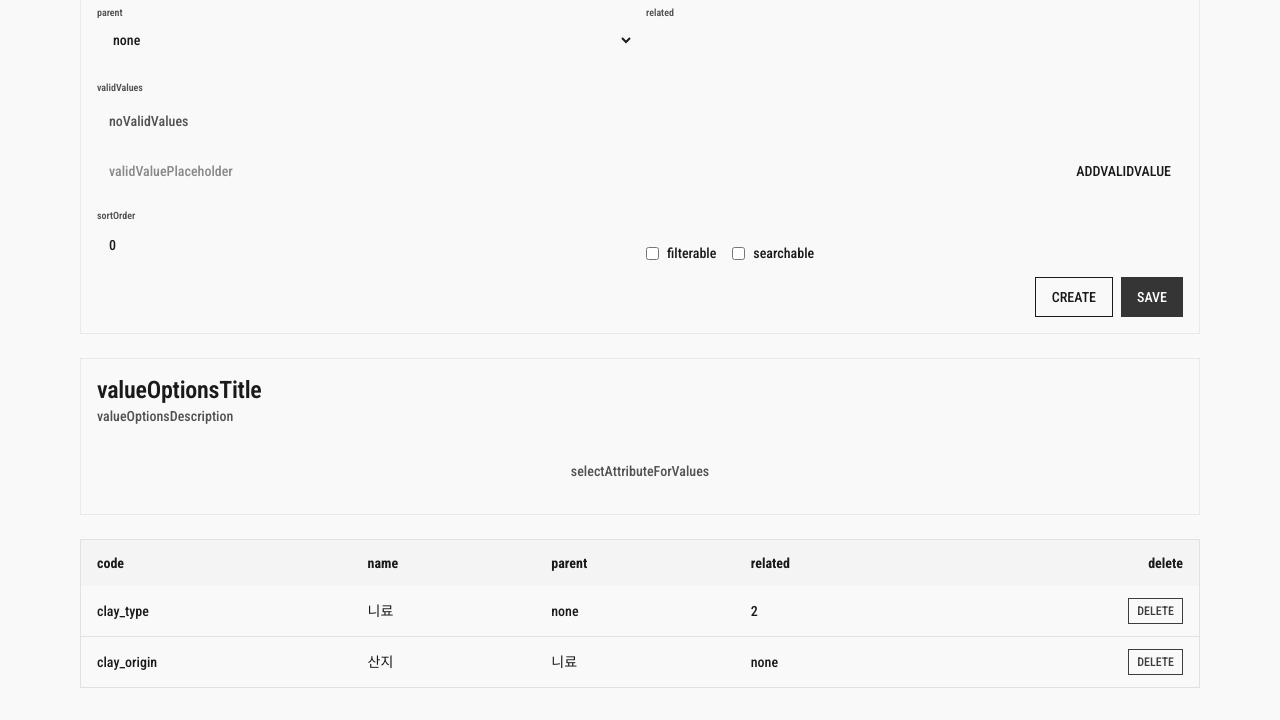
Scenario: AdminAttributesPage › refreshes both source and destination after moving a product to another value
The image size is (1280, 720).
(page scrolled)
Click the text "clay_type" at (123, 611), box [81,586,352,637]
(page scrolled)
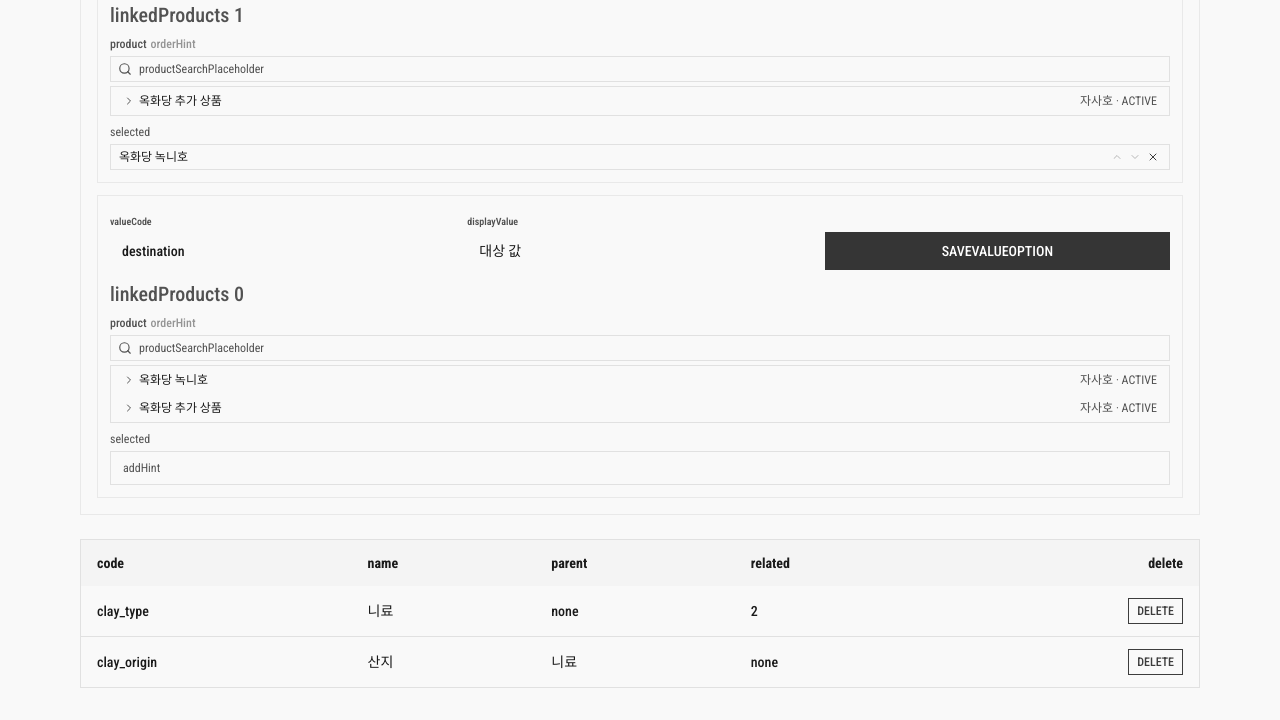
Click the button "옥화당 녹니호 자사호 · active" at (174, 380), box [111,366,1169,394]
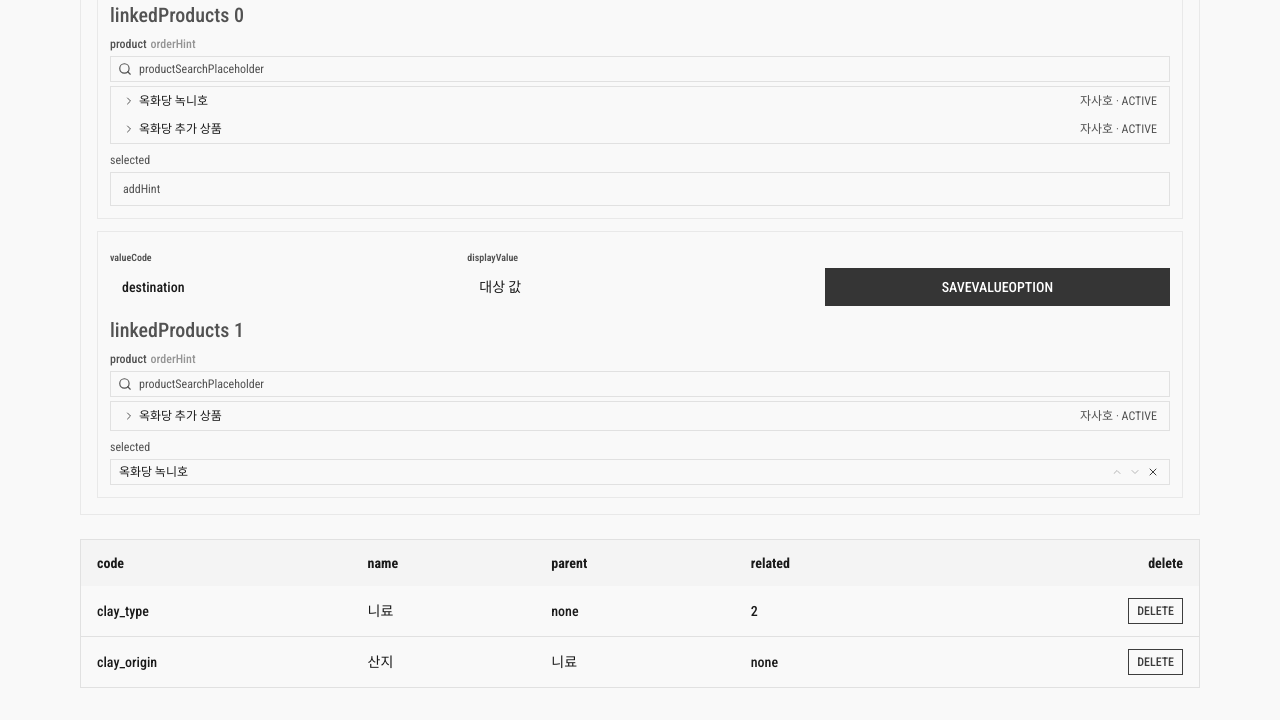
Result: the number of buttons named "선택 해제 옥화당 녹니호" is 1 at [1145,464,1161,480]
Result: the heading "linkedProducts 0" is shown at [110,2,244,26]
Result: the heading "linkedProducts 1" is shown at [110,318,244,342]
